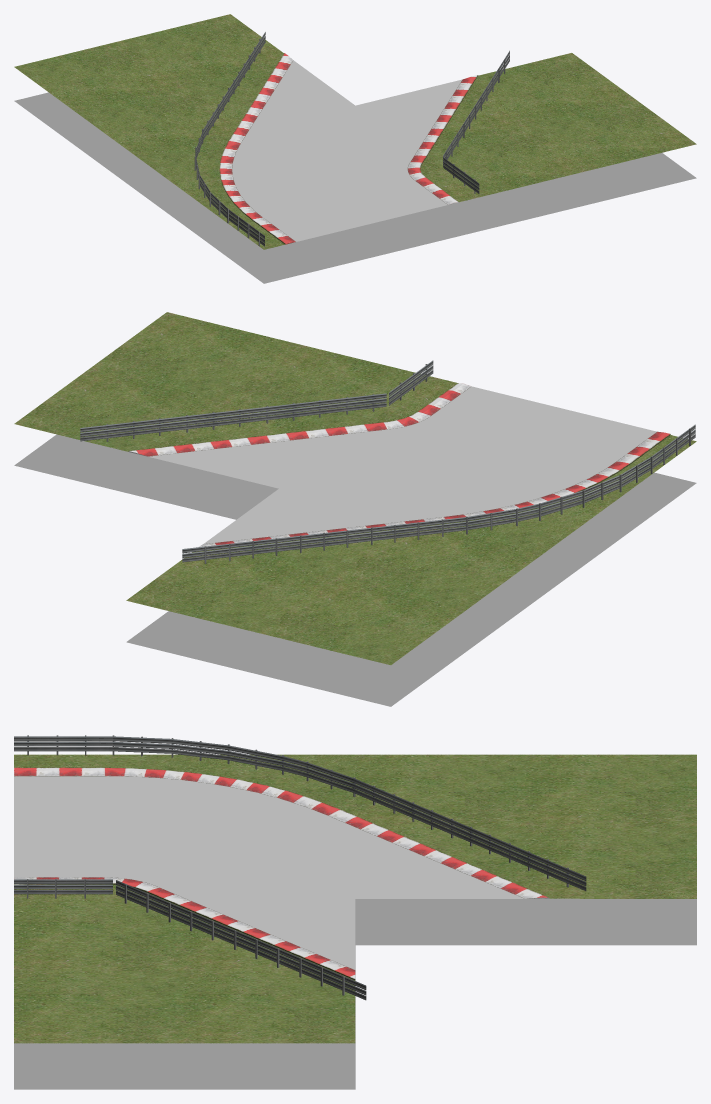
The model's file is Track_Curve_To_45Degree_Mobile.fbx.
3 views of the same model, one above another, from view 1: azimuth 30°, elevation 25°; view 2: azimuth 150°, elevation 25°; view 3: azimuth 270°, elevation 25° (orthographic). The views are drawn at different scales.
Visible parts, largest first — view 1: Grass, Road, Snap_Plane_Invisible_1, Snap_Plane_Invisible_2, Snap_Plane_Invisible_3, Curb_A, Rail_A, Curb__B, Rail_B; view 2: Grass, Road, Snap_Plane_Invisible_3, Snap_Plane_Invisible_2, Rail_A, Snap_Plane_Invisible_1, Rail_B, Curb__B, Curb_A; view 3: Grass, Road, Snap_Plane_Invisible_2, Snap_Plane_Invisible_3, Rail_A, Curb_A, Rail_B, Curb__B.
Part boxes in pixels (x1,y1,x2,y2): Grass: (14,14,696,249); Road: (232,60,462,241); Snap_Plane_Invisible_1: (139,184,479,283); Snap_Plane_Invisible_2: (446,153,696,230); Snap_Plane_Invisible_3: (14,92,173,192); Curb_A: (219,53,295,244); Rail_A: (194,32,265,246); Curb__B: (407,75,478,204); Rail_B: (443,50,509,193); Grass: (14,312,696,665); Road: (148,386,656,543); Snap_Plane_Invisible_3: (126,584,543,706); Snap_Plane_Invisible_2: (14,434,278,519); Rail_A: (182,424,695,563); Snap_Plane_Invisible_1: (501,472,696,594); Rail_B: (80,360,433,441); Curb__B: (128,383,471,456); Curb_A: (198,431,670,547); Grass: (14,754,696,1043); Road: (14,776,524,969); Snap_Plane_Invisible_2: (14,945,355,1089); Snap_Plane_Invisible_3: (355,898,696,945); Rail_A: (14,735,586,890); Curb_A: (14,767,549,898); Rail_B: (14,879,366,1000); Curb__B: (14,877,355,980).
Bounding box in the file's own units: 40 × 4.24 × 40.
